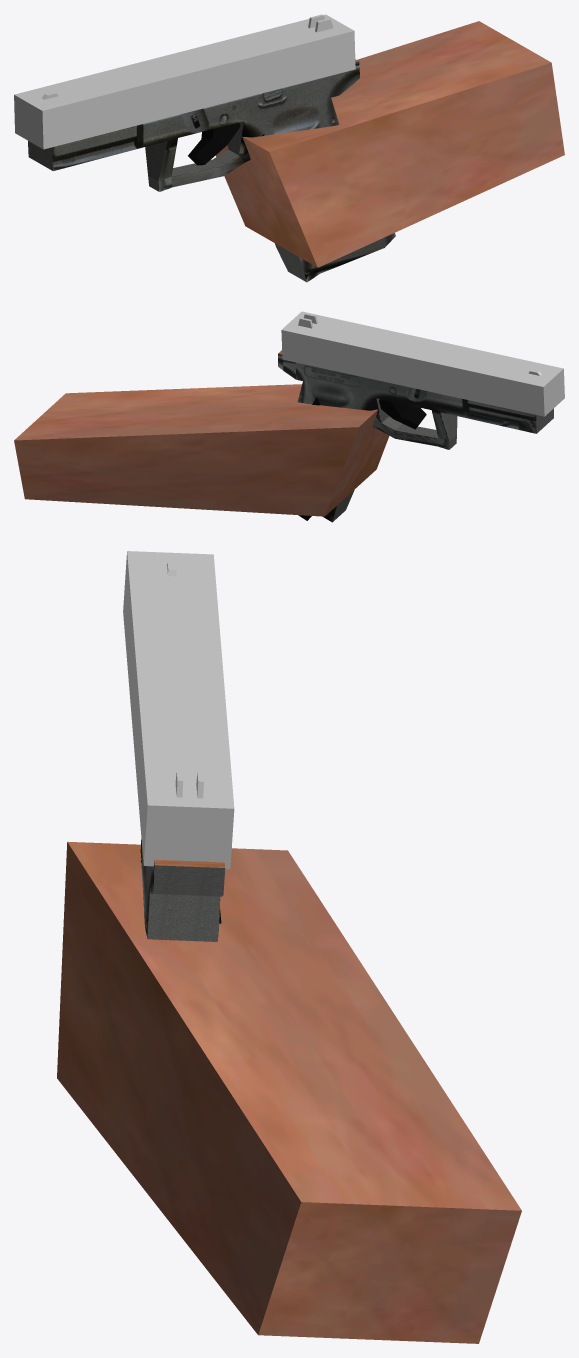
File: pistol_000035.obj
The picture shows the model from 3 angles, top to bottom: view 1: azimuth 30°, elevation 25°; view 2: azimuth 150°, elevation 25°; view 3: azimuth 270°, elevation 25°; orthographic projection. The views are drawn at different scales.
Visible parts, largest first — view 1: Cube, Cube.001, Cube.003; view 2: Cube, Cube.001, Cube.003; view 3: Cube, Cube.001.
Part boxes in pixels (bbox=[...]): Cube: bbox=[28, 21, 564, 282]; Cube.001: bbox=[14, 14, 355, 149]; Cube.003: bbox=[188, 122, 240, 165]; Cube: bbox=[14, 350, 553, 522]; Cube.001: bbox=[281, 311, 564, 416]; Cube.003: bbox=[379, 399, 426, 429]; Cube: bbox=[57, 839, 521, 1343]; Cube.001: bbox=[123, 551, 234, 869].
Bounding box in the file's own units: 1.74 × 0.7255 × 0.7679.
